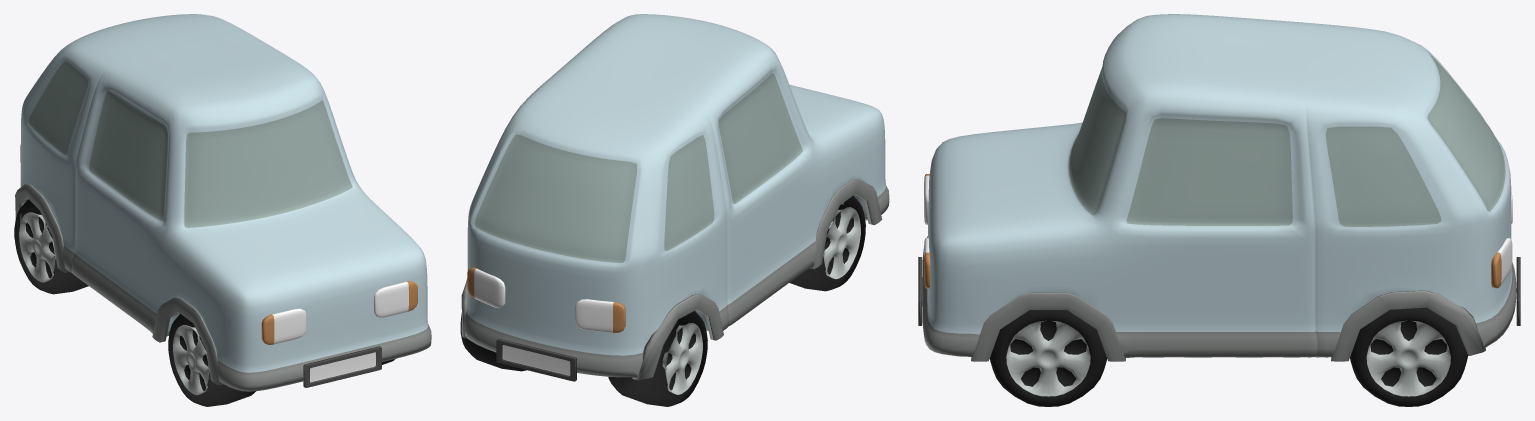
Rendered from car-2 (2).fbx.
The picture shows the model from 3 angles, left to right: view 1: azimuth 30°, elevation 25°; view 2: azimuth 150°, elevation 25°; view 3: azimuth 270°, elevation 25°; orthographic projection. The views are drawn at different scales.
Visible parts, largest first — view 1: Cube, Cylinder.008, Cylinder.002, Cube.005, Cube.003; view 2: Cube, Cylinder.008, Cylinder.002, Cube.005, Cube.003; view 3: Cube, Cylinder.008, Cylinder.002, Cube.005, Cube.003.
Part boxes in pixels (x1,y1,x2,y2): Cube: [20, 14, 431, 391]; Cylinder.008: [14, 199, 394, 406]; Cylinder.002: [15, 184, 223, 385]; Cube.005: [20, 145, 417, 344]; Cube.003: [303, 346, 381, 387]; Cube: [464, 14, 889, 377]; Cylinder.008: [460, 195, 865, 406]; Cylinder.002: [461, 178, 882, 380]; Cube.005: [467, 267, 625, 332]; Cube.003: [496, 339, 576, 381]; Cube: [922, 14, 1516, 357]; Cylinder.008: [989, 307, 1467, 406]; Cylinder.002: [971, 290, 1485, 361]; Cube.005: [924, 174, 1512, 288]; Cube.003: [918, 257, 1520, 325].
Bounding box in the file's own units: 379 × 462 × 816.
